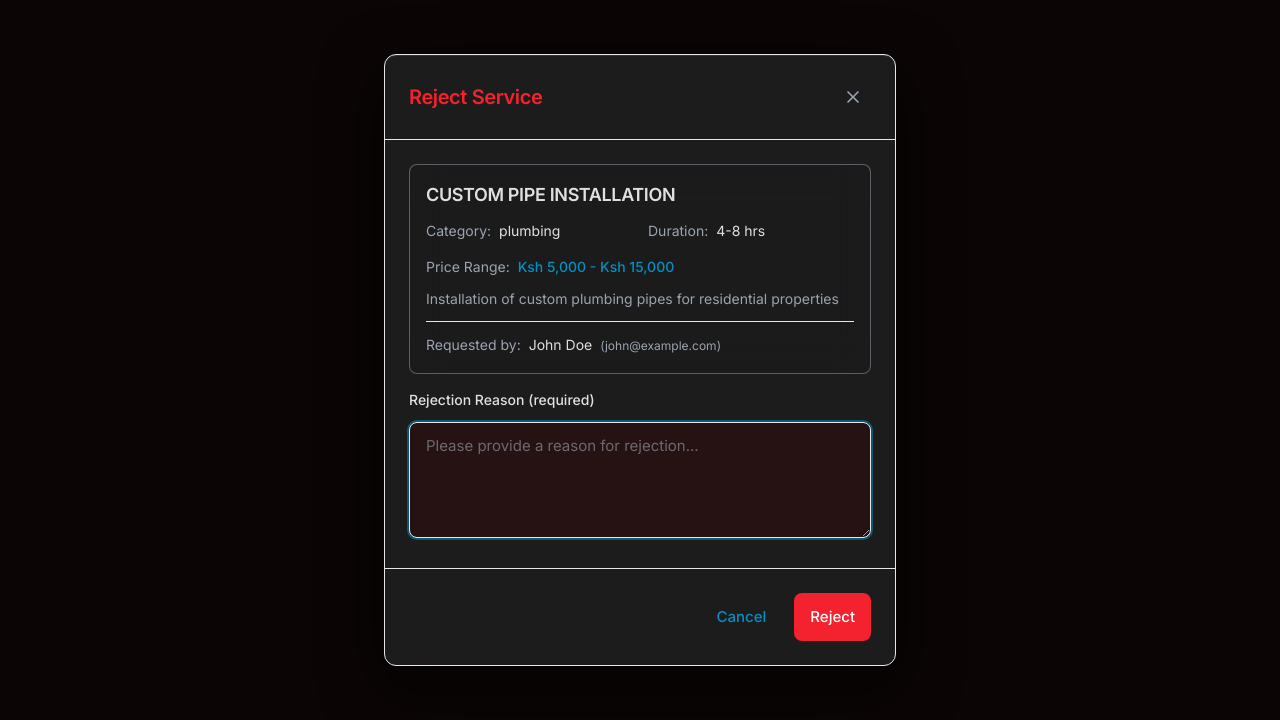
Test case: ApprovalModal Component › Form Validation › should show error when rejecting without reason
The image size is (1280, 720).
Click the button "Reject" at (833, 617), box x1=794 y1=593 x2=871 y2=641
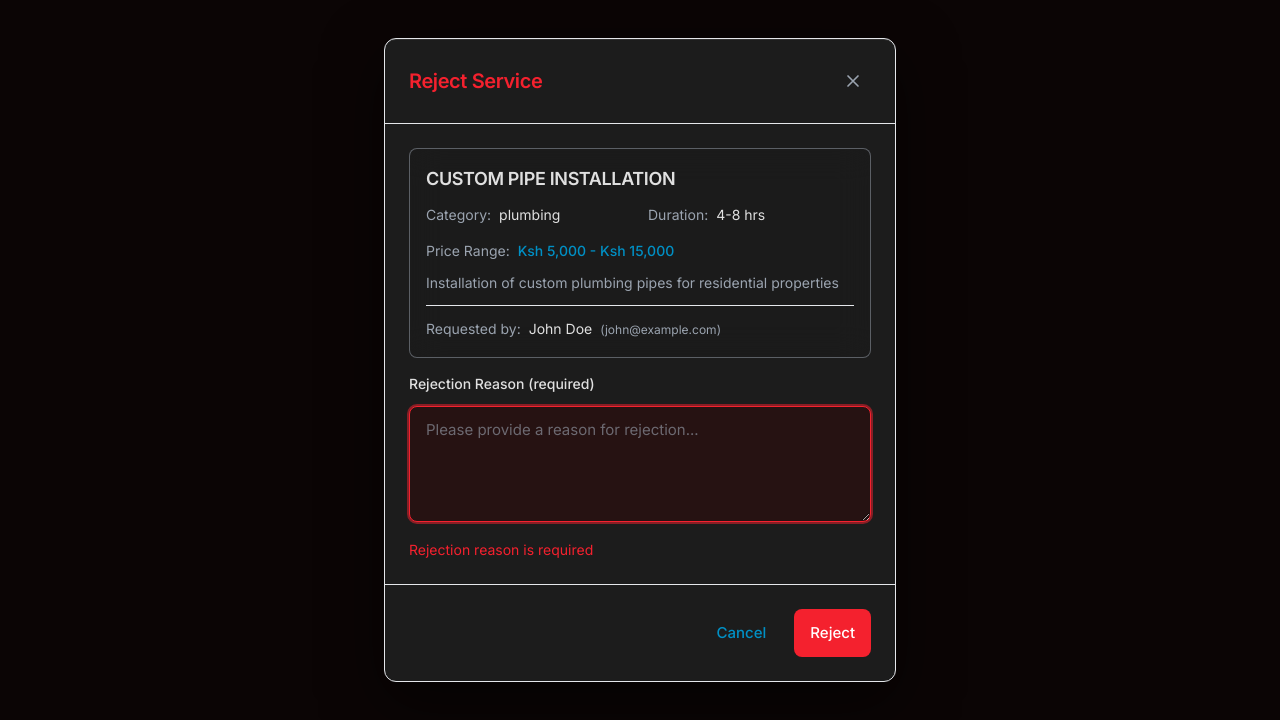
Result: the text "Rejection reason is required" is shown at x1=409 y1=541 x2=593 y2=558
